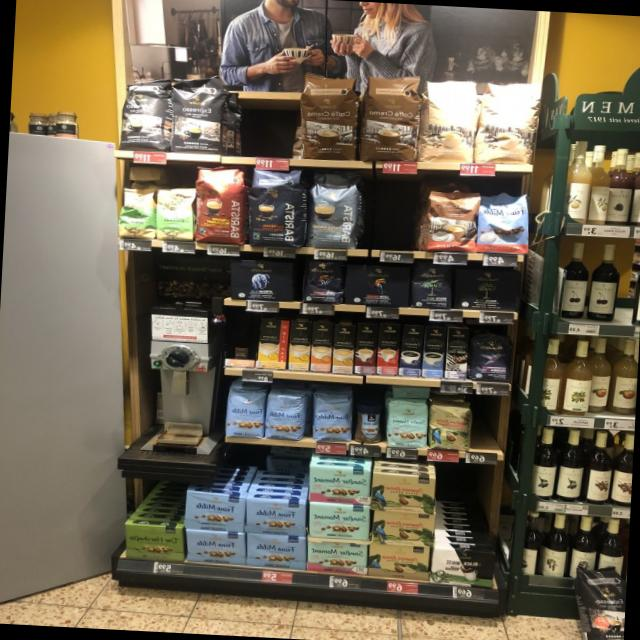AB Gemahlen: (228, 259, 294, 303)
Athiopien Bohne: (118, 187, 156, 240)
Athiopien Gemahlen: (154, 186, 196, 242)
BM Bohne: (410, 262, 452, 310)
BM Gemahlen: (452, 266, 524, 312)
BW Gemahlen: (429, 548, 498, 588)
Barista CC: (306, 170, 364, 250)
Barista Espresso: (246, 168, 304, 248)
Barista Kolumbien: (192, 165, 247, 244)
C Fino Bohne: (470, 330, 512, 382)
CC Mild: (474, 80, 544, 166), (418, 77, 479, 165)
CC Vollmundig: (424, 190, 480, 254)
CC Vollmundig 36 Pads: (359, 72, 422, 164), (298, 73, 360, 161)
Colombia BB Bohne: (428, 402, 472, 452)
Colombia BB Gemahlen: (370, 472, 437, 513), (369, 509, 436, 547), (368, 544, 430, 582)
Empty Shelf: (222, 71, 300, 159), (363, 172, 425, 251), (472, 402, 514, 455), (225, 317, 258, 360)
Espresso S Art: (169, 74, 226, 155), (118, 72, 170, 152)
FM 36 Pads: (476, 189, 530, 255)
FM Bohne: (224, 388, 266, 439), (312, 396, 354, 442), (264, 393, 304, 441)
FM Gemahlen: (183, 491, 247, 533), (244, 497, 307, 536), (244, 532, 306, 570), (184, 529, 244, 565)
FM Instant: (352, 401, 386, 445)
Herzhatfe Mundig: (123, 523, 184, 562)
LG Bohne: (303, 260, 345, 304)
LG Gemahlen: (344, 264, 412, 308)
SM Bohne: (384, 399, 428, 449)
SM Gemahlen: (307, 464, 372, 506), (308, 502, 372, 540), (306, 538, 368, 574)
Simo CCMild: (257, 318, 289, 368)
Simo CCMild bigpack: (288, 321, 312, 372)
Simo CCVollmundig bigpack: (310, 321, 334, 372)
Simo Decaff: (332, 324, 356, 374)
Simo Es Brazil: (376, 322, 401, 376)
Simo Es Caramel: (354, 323, 379, 374)
Simo Es Elegant: (444, 326, 470, 379)
Simo Es Kraft: (399, 325, 425, 377)
Simo Es Vanilla: (422, 326, 447, 378)
